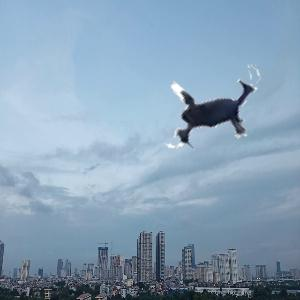drone: (143, 41, 278, 176)
